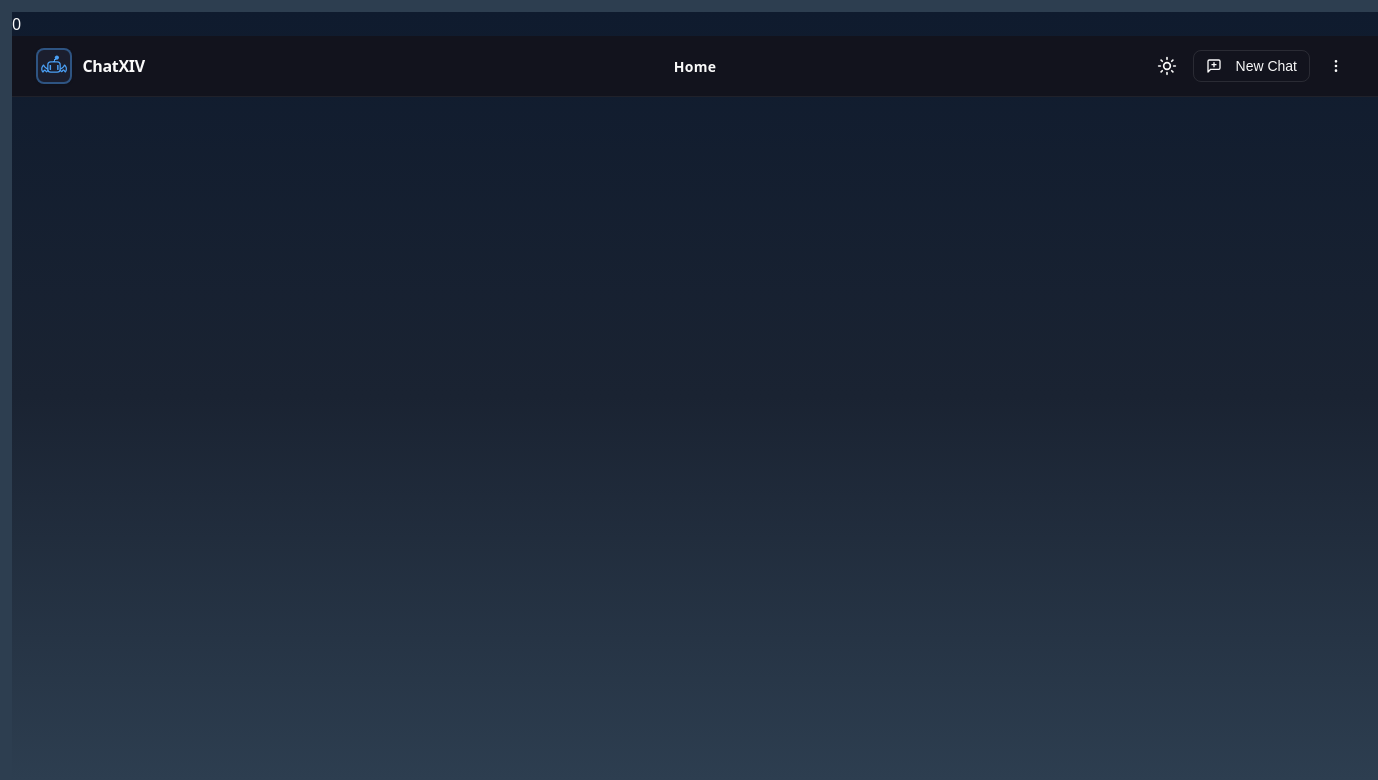
Test case: Header › starts a new chat when the lockup or Home link is clicked
The width and height of the screenshot is (1378, 780).
Expected: the text with test id "session-generation" reads "0", [12, 13, 21, 35]
What coordinates should you click on to do the following:
click the link with aria-label "chatxiv home"
I would click on:
 (90, 66)
Its box is [36, 48, 145, 84].
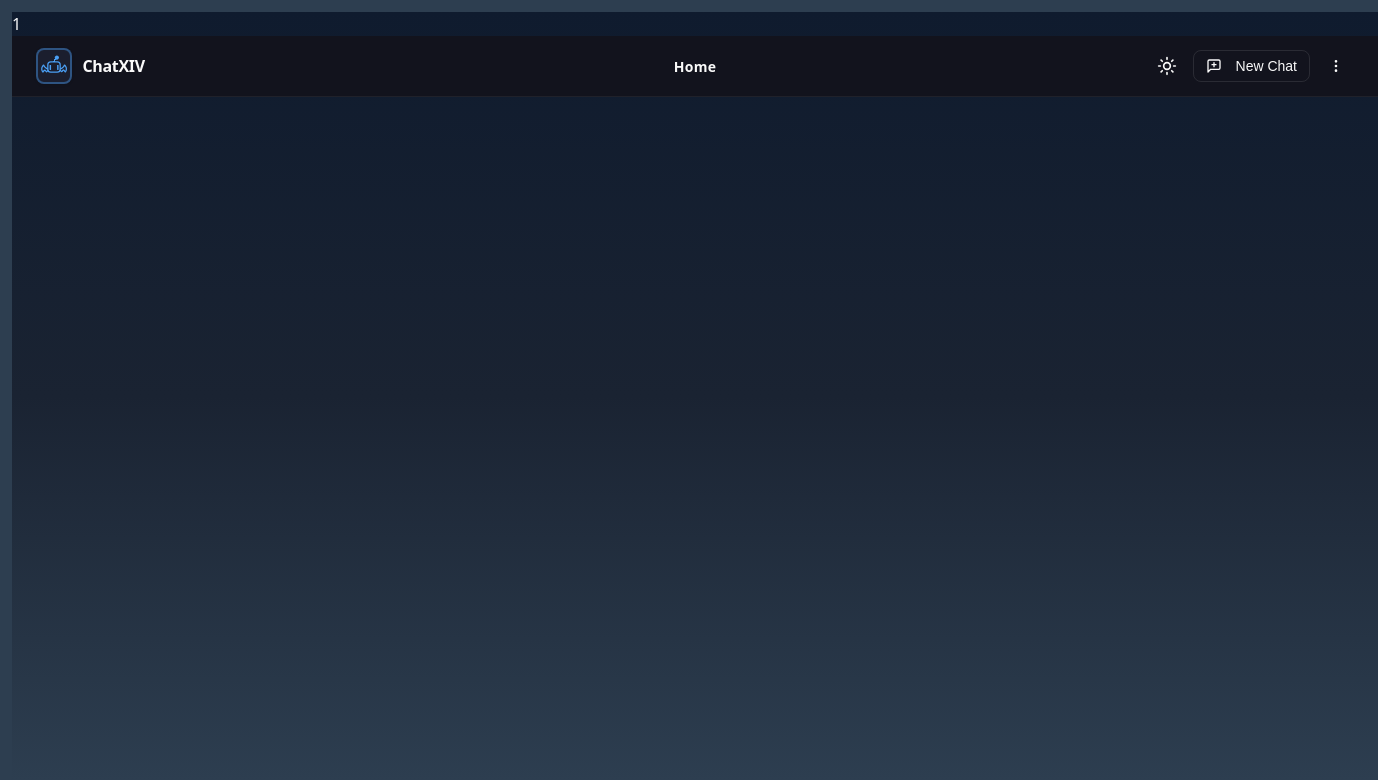
Now the text with test id "session-generation" reads "1", box [12, 13, 21, 35]
What coordinates should you click on to do the following:
click the link "Home"
I would click on:
 (695, 66)
Its box is [674, 56, 716, 76].
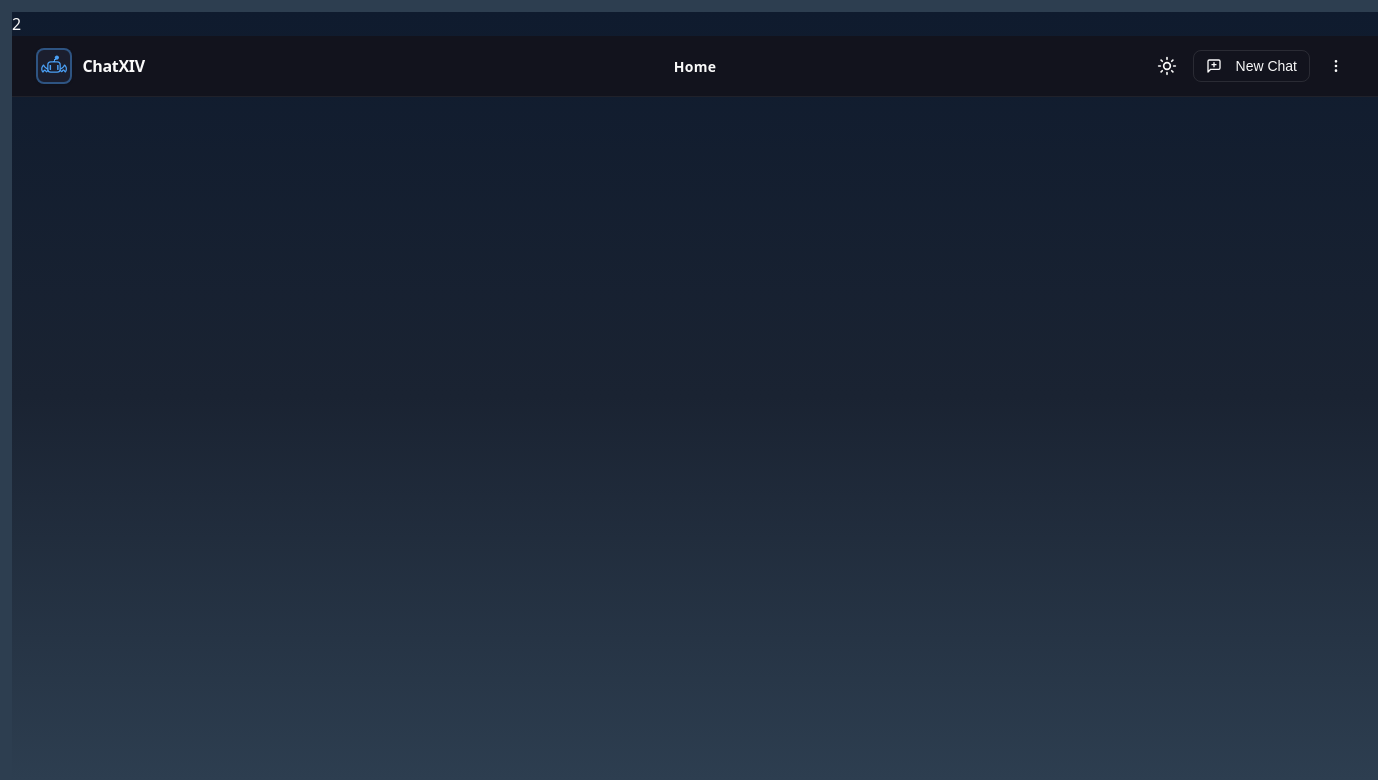
Now the text with test id "session-generation" reads "2", box [12, 13, 21, 35]
